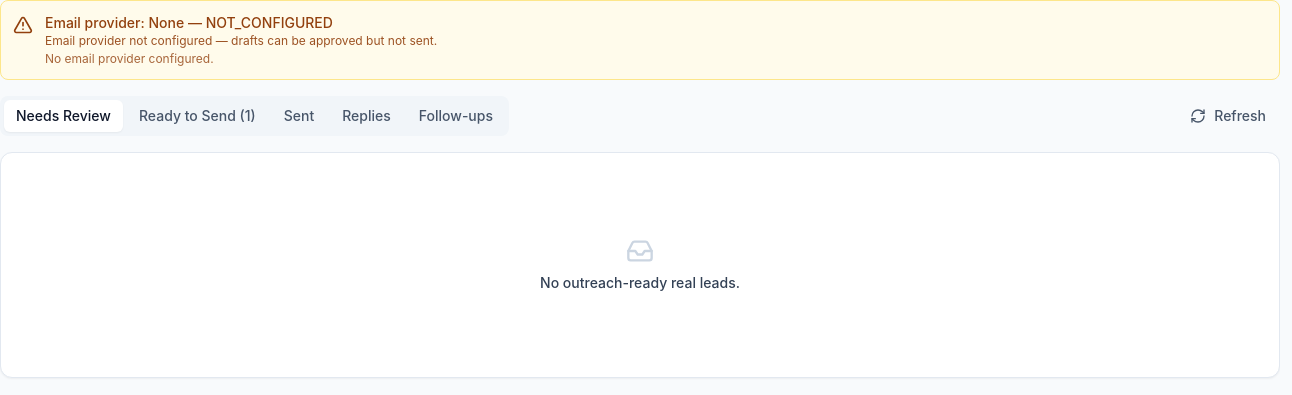
Test case: OutreachWorkspace › disables Send when the email provider is NOT_CONFIGURED
Expected: the text "Email provider not configured — drafts can be approved but not sent" is shown, 45,33 -> 437,48
// The APPROVED draft lives in the "Ready to Send" tab.
Click the tab "Ready to Send (1)".
click(197, 116)  # box 127,100 -> 268,132
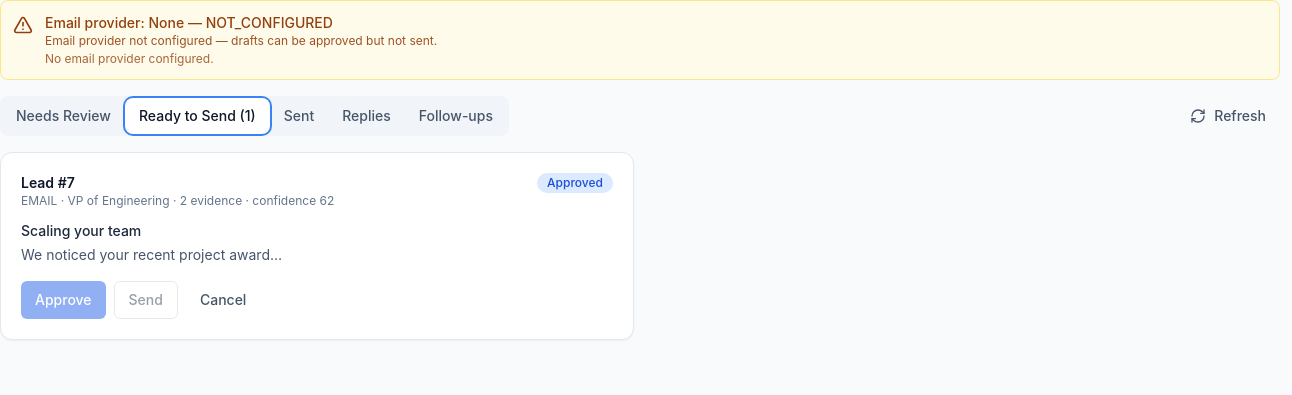
Expected: the button "Send" is disabled, 114,281 -> 178,319
